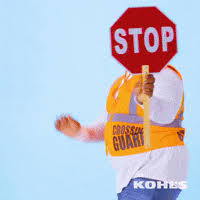stop sign: (108, 6, 177, 74)
